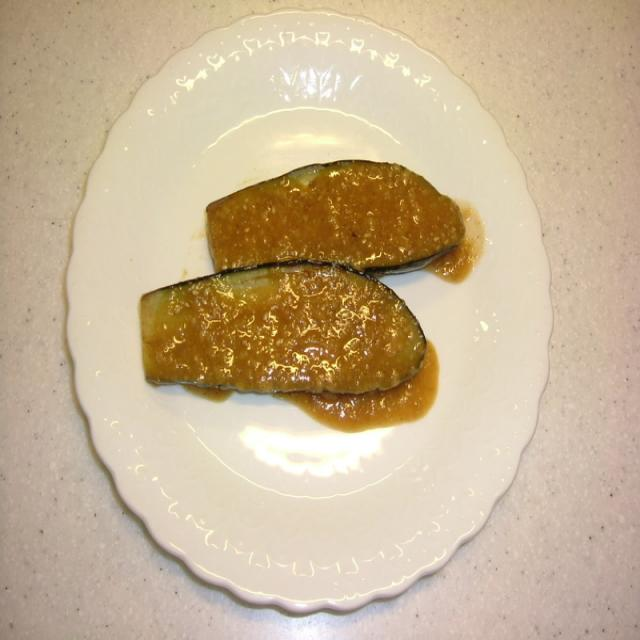鸡蛋料理: (113, 156, 513, 442)
